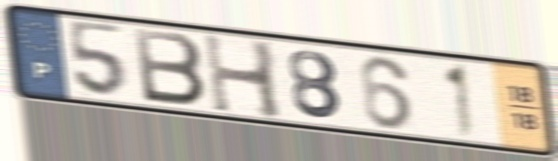1: (441, 61, 476, 143)
5: (64, 17, 132, 101)
6: (357, 53, 415, 132)
8: (286, 48, 345, 121)
B: (130, 25, 210, 109)
H: (200, 30, 289, 124)
